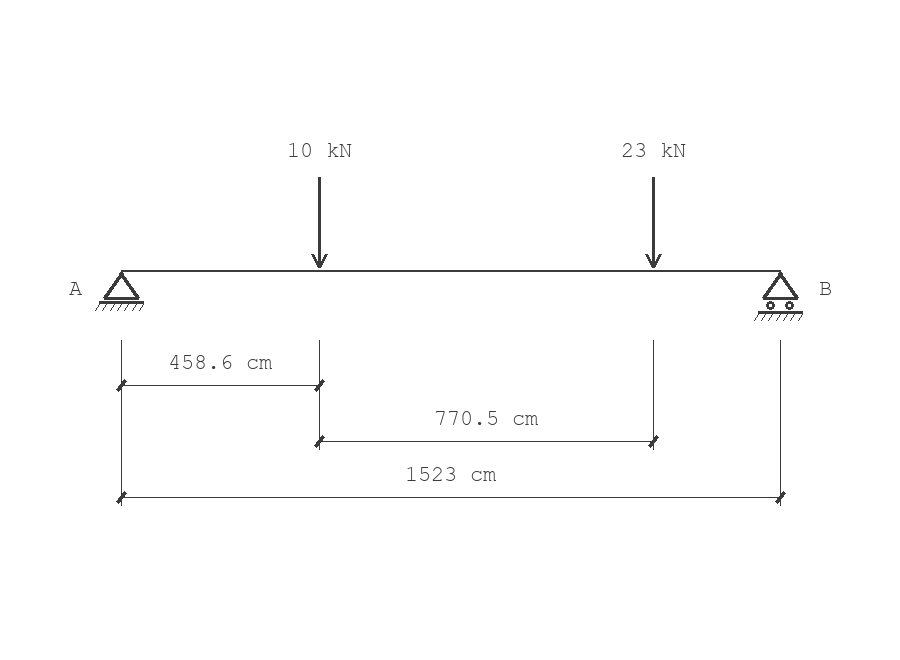pin_support: (95, 272, 144, 311)
point_load: (311, 177, 328, 268), (645, 177, 662, 268)
roller_support: (754, 272, 803, 321)
